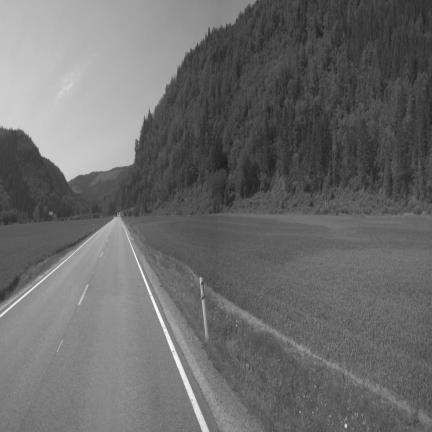Road: (0, 218, 213, 431)
